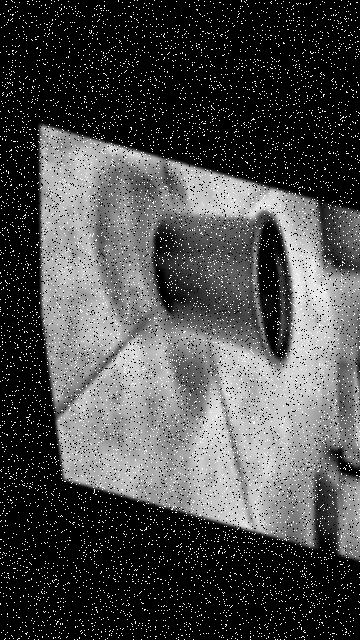pot: (153, 212, 293, 365)
